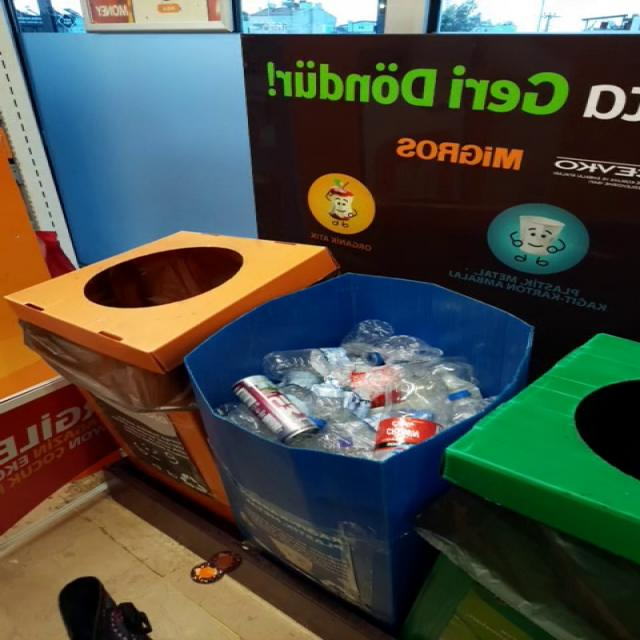bin: (5, 232, 533, 626)
metal: (232, 377, 319, 444)
